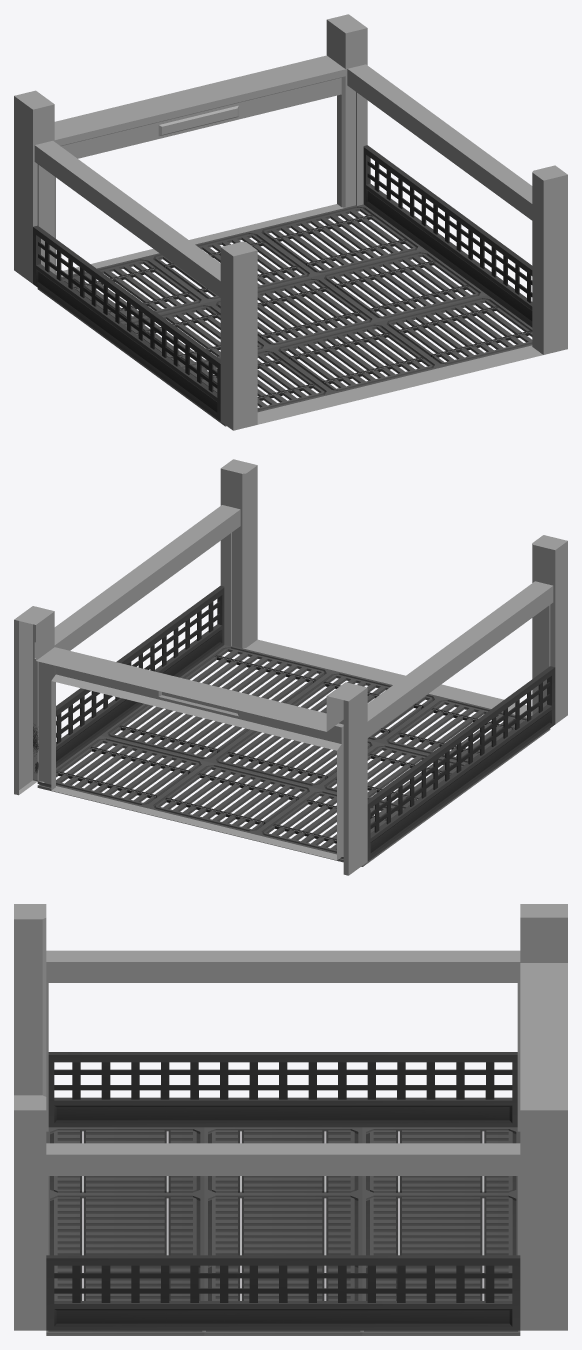
Rendered from Asset_Ascensor.fbx.
3 views of the same model, one above another, from view 1: azimuth 30°, elevation 25°; view 2: azimuth 150°, elevation 25°; view 3: azimuth 270°, elevation 25° (orthographic). The views are drawn at different scales.
Parts seen in each view (by area): view 1: Pilares_Ascensor1, piso_reja, pared_reja; view 2: Pilares_Ascensor1, piso_reja, pared_reja; view 3: Pilares_Ascensor1, piso_reja, pared_reja.
Boxes of the visible parts, x1,y1,x2,y2 form: Pilares_Ascensor1: (14, 14, 567, 430); piso_reja: (37, 204, 532, 426); pared_reja: (33, 145, 532, 421); Pilares_Ascensor1: (14, 459, 567, 875); piso_reja: (37, 645, 550, 866); pared_reja: (33, 585, 555, 861); Pilares_Ascensor1: (14, 904, 567, 1330); piso_reja: (46, 1127, 520, 1335); pared_reja: (46, 1052, 520, 1330).
Bounding box in the file's own units: 309 × 160 × 351.
